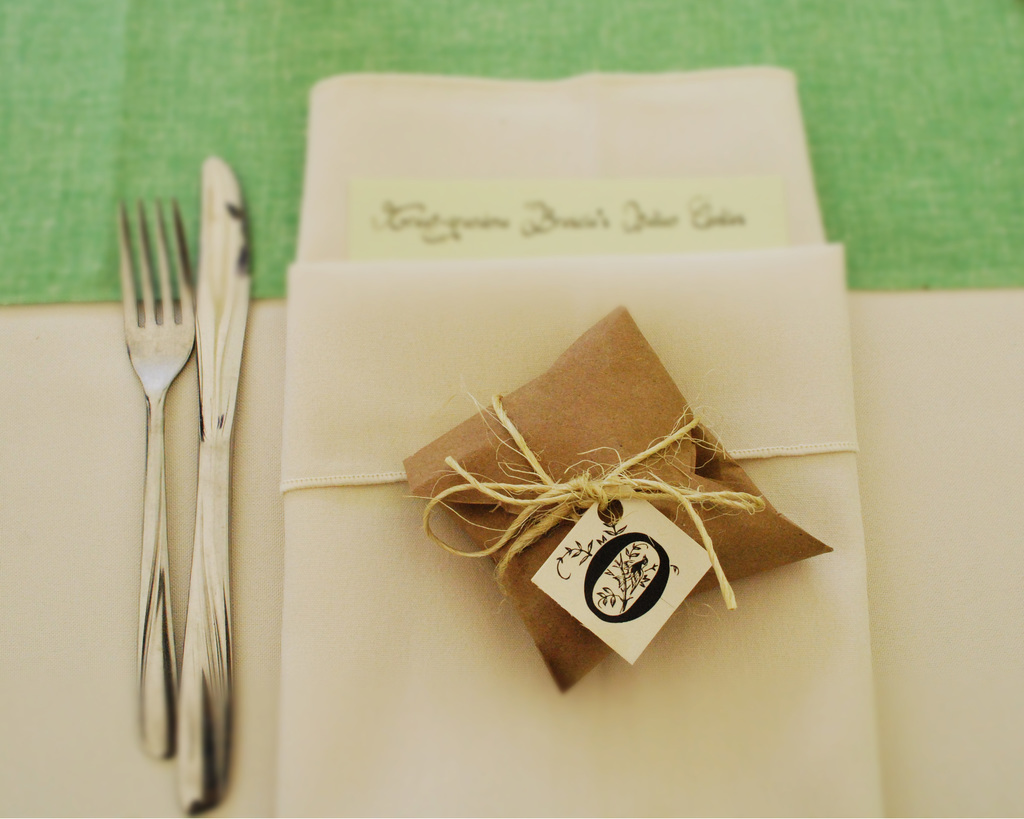fork: (117, 197, 195, 760)
